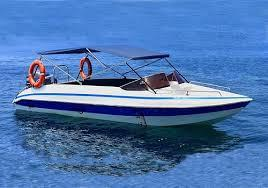Ship: (14, 59, 253, 127)
